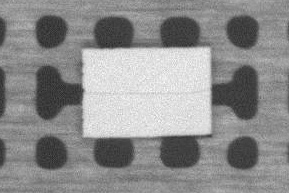DIE_CRACK: (84, 88, 207, 96)
